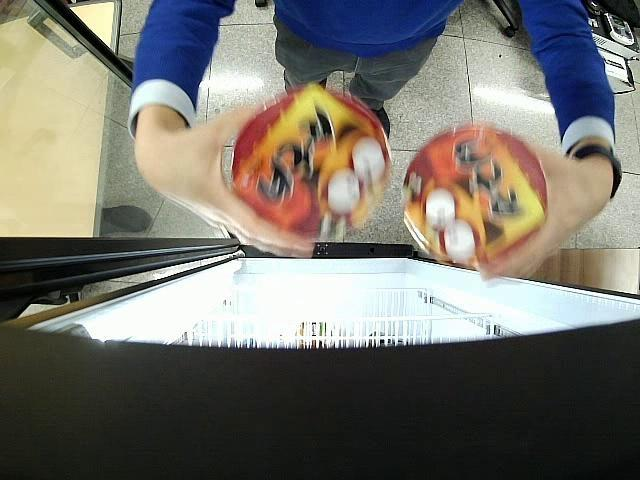05_nuguri_L: (232, 84, 394, 243), (400, 125, 546, 266)
